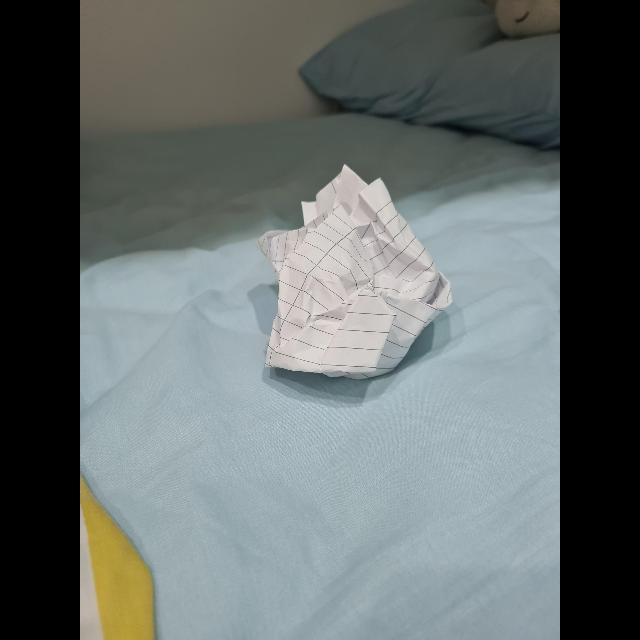scrap_paper: (256, 172, 447, 380)
